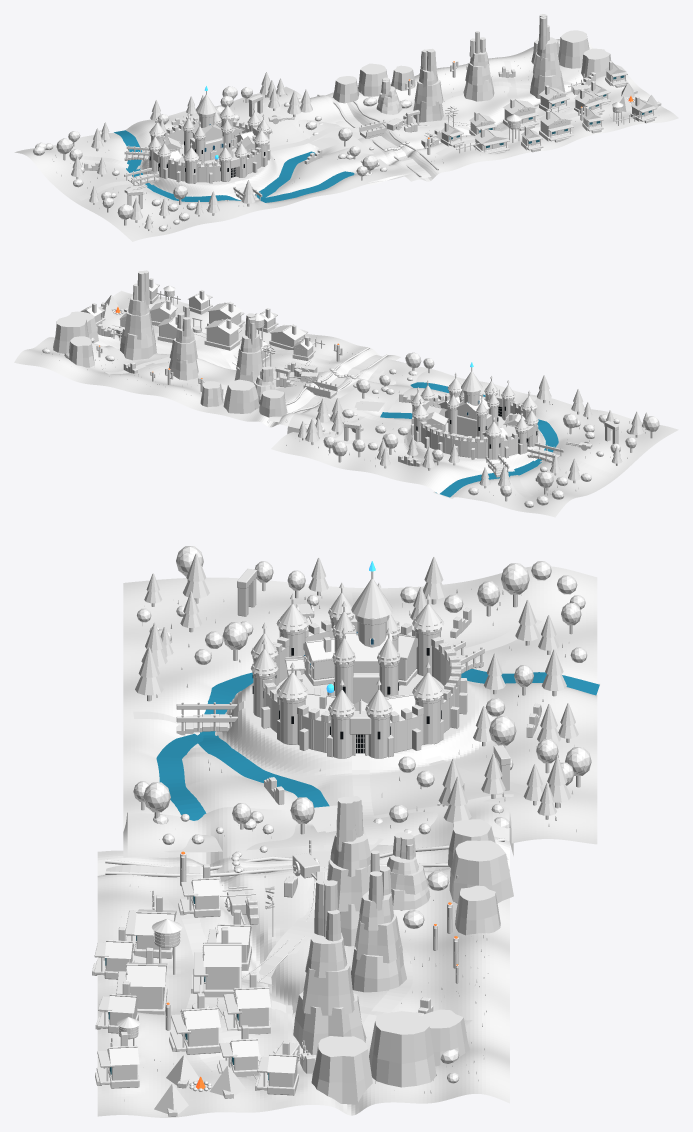
Rendered from castle-desert-combined.glb.
3 views of the same model, one above another, from view 1: azimuth 30°, elevation 25°; view 2: azimuth 150°, elevation 25°; view 3: azimuth 270°, elevation 25° (orthographic). The views are drawn at different scales.
Visible parts, largest first — view 1: Castle Valley Terrain, Detailed Ember Dunes Terrain, Wide natural grass to desert transition, Main blue river, Boundary cliff.004, Boundary cliff.001, Western border river, Boundary cliff.005, South river branch, Boundary cliff, Western Great Rock Pillar middle strata, Eastern Great Rock Pillar lower strata (+7 smaller); view 2: Castle Valley Terrain, Detailed Ember Dunes Terrain, Wide natural grass to desert transition, Main blue river, Boundary cliff.001, Boundary cliff.004, Eastern Great Rock Pillar lower strata, Boundary cliff.003, Boundary cliff, Eastern Great Rock Pillar middle strata, Western border river, Western Great Rock Pillar middle strata (+7 smaller); view 3: Castle Valley Terrain, Detailed Ember Dunes Terrain, Wide natural grass to desert transition, Boundary cliff.004, Main blue river, Boundary cliff.005, Boundary cliff.001, Main desert road 1, Eastern Great Rock Pillar lower strata, South river branch, Eastern Great Rock Pillar middle strata, Boundary cliff.002 (+17 smaller).
Boxes of the visible parts, x1=… form: Castle Valley Terrain: x1=14, y1=86, x2=404, y2=241; Detailed Ember Dunes Terrain: x1=315, y1=39, x2=678, y2=181; Wide natural grass to desert transition: x1=266, y1=96, x2=413, y2=185; Main blue river: x1=114, y1=130, x2=315, y2=201; Boundary cliff.004: x1=558, y1=30, x2=589, y2=68; Boundary cliff.001: x1=358, y1=63, x2=387, y2=96; Western border river: x1=326, y1=92, x2=437, y2=178; Boundary cliff.005: x1=581, y1=48, x2=611, y2=78; South river branch: x1=260, y1=171, x2=354, y2=202; Boundary cliff: x1=332, y1=76, x2=359, y2=103; Western Great Rock Pillar middle strata: x1=414, y1=79, x2=443, y2=106; Eastern Great Rock Pillar lower strata: x1=530, y1=70, x2=565, y2=99; Castle Valley Terrain: x1=271, y1=367, x2=678, y2=517; Detailed Ember Dunes Terrain: x1=14, y1=290, x2=400, y2=427; Wide natural grass to desert transition: x1=287, y1=358, x2=428, y2=438; Main blue river: x1=380, y1=412, x2=558, y2=497; Boundary cliff.001: x1=223, y1=379, x2=258, y2=413; Boundary cliff.004: x1=53, y1=316, x2=88, y2=353; Eastern Great Rock Pillar lower strata: x1=120, y1=327, x2=156, y2=360; Boundary cliff.003: x1=68, y1=336, x2=94, y2=367; Boundary cliff: x1=259, y1=389, x2=287, y2=417; Eastern Great Rock Pillar middle strata: x1=124, y1=309, x2=152, y2=339; Western border river: x1=268, y1=355, x2=382, y2=422; Western Great Rock Pillar middle strata: x1=236, y1=347, x2=263, y2=375; Castle Valley Terrain: x1=123, y1=566, x2=597, y2=852; Detailed Ember Dunes Terrain: x1=97, y1=836, x2=509, y2=1117; Wide natural grass to desert transition: x1=123, y1=794, x2=513, y2=864; Boundary cliff.004: x1=369, y1=1011, x2=436, y2=1087; Main blue river: x1=198, y1=669, x2=599, y2=807; Boundary cliff.005: x1=311, y1=1036, x2=372, y2=1104; Boundary cliff.001: x1=449, y1=840, x2=513, y2=903; Main desert road 1: x1=204, y1=868, x2=327, y2=1080; Eastern Great Rock Pillar lower strata: x1=293, y1=991, x2=366, y2=1054; South river branch: x1=156, y1=732, x2=214, y2=820; Eastern Great Rock Pillar middle strata: x1=302, y1=959, x2=354, y2=1015; Boundary cliff.002: x1=455, y1=885, x2=500, y2=935.
Size of the model in its own units: 48.4 by 7.68 by 19.74.
